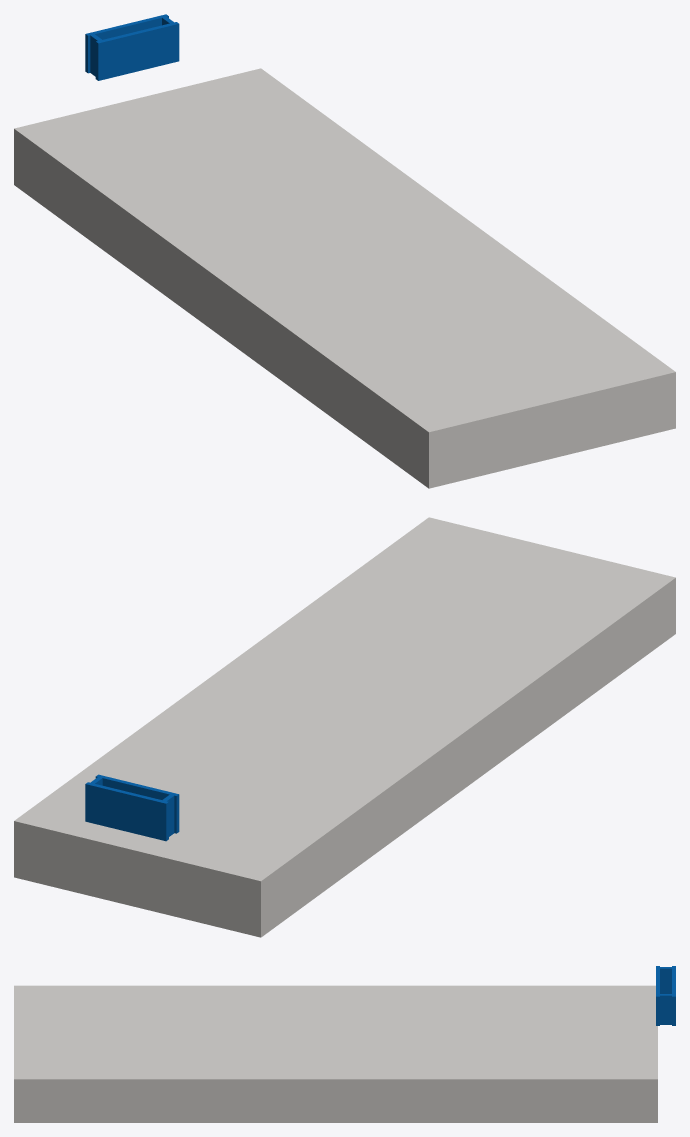
The model's file is wooden_block_platter.glb.
The picture shows the model from 3 angles, top to bottom: view 1: azimuth 30°, elevation 25°; view 2: azimuth 150°, elevation 25°; view 3: azimuth 270°, elevation 25°; orthographic projection. The views are drawn at different scales.
Parts seen in each view (by area): view 1: world; view 2: world; view 3: world.
Part boxes in pixels (x1,y1,x2,y2): world: [14, 14, 675, 488]; world: [14, 517, 675, 937]; world: [14, 966, 675, 1122].
Size of the model in its own units: 0.55 by 0.26 by 1.64.
